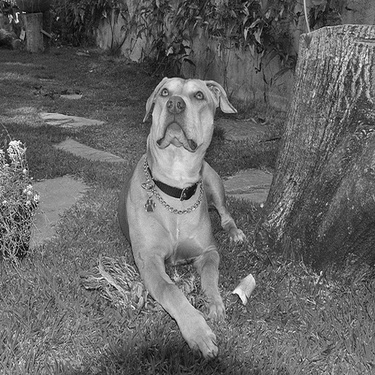dog: (120, 74, 249, 364)
